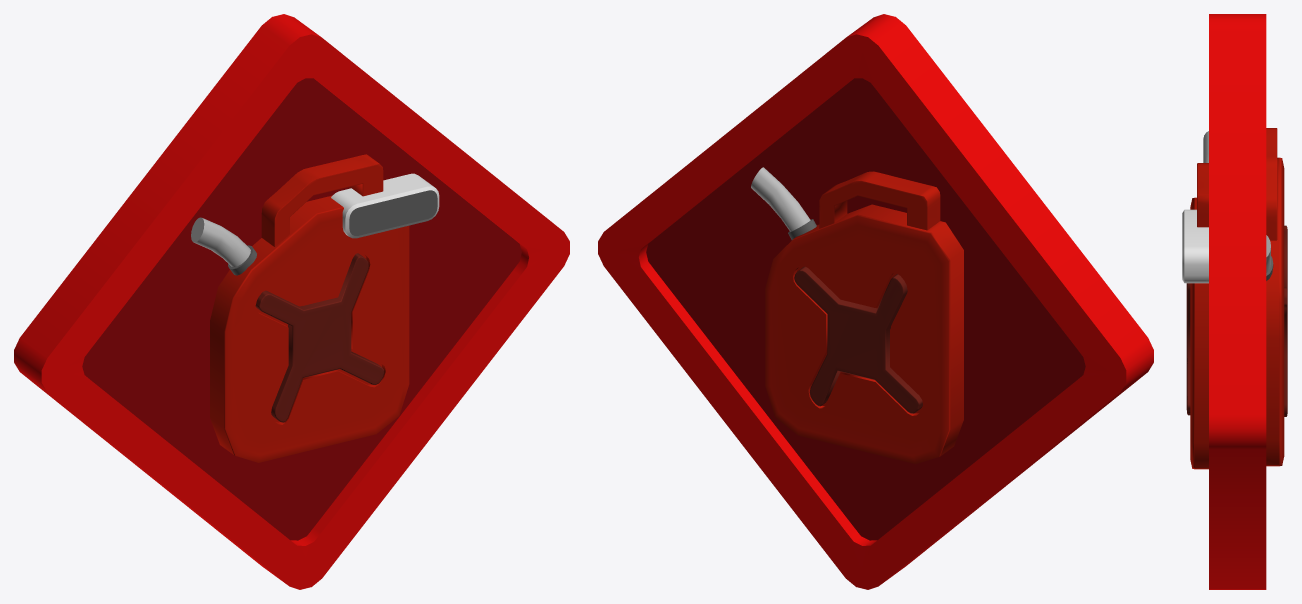
File: fuel_negative.fbx
The picture shows the model from 3 angles, left to right: view 1: azimuth 30°, elevation 25°; view 2: azimuth 150°, elevation 25°; view 3: azimuth 270°, elevation 25°; orthographic projection. The views are drawn at different scales.
Visible parts, largest first — view 1: fuel negative, fuel.002; view 2: fuel negative, fuel.002; view 3: fuel negative, fuel.002.
Part boxes in pixels (x1=…): fuel negative: x1=14, y1=14, x2=569, y2=589; fuel.002: x1=191, y1=154, x2=409, y2=462; fuel negative: x1=598, y1=14, x2=1153, y2=589; fuel.002: x1=751, y1=167, x2=963, y2=463; fuel negative: x1=1182, y1=14, x2=1266, y2=589; fuel.002: x1=1186, y1=128, x2=1287, y2=469.
Bounding box in the file's own units: 2.72 × 0.4556 × 2.72.
